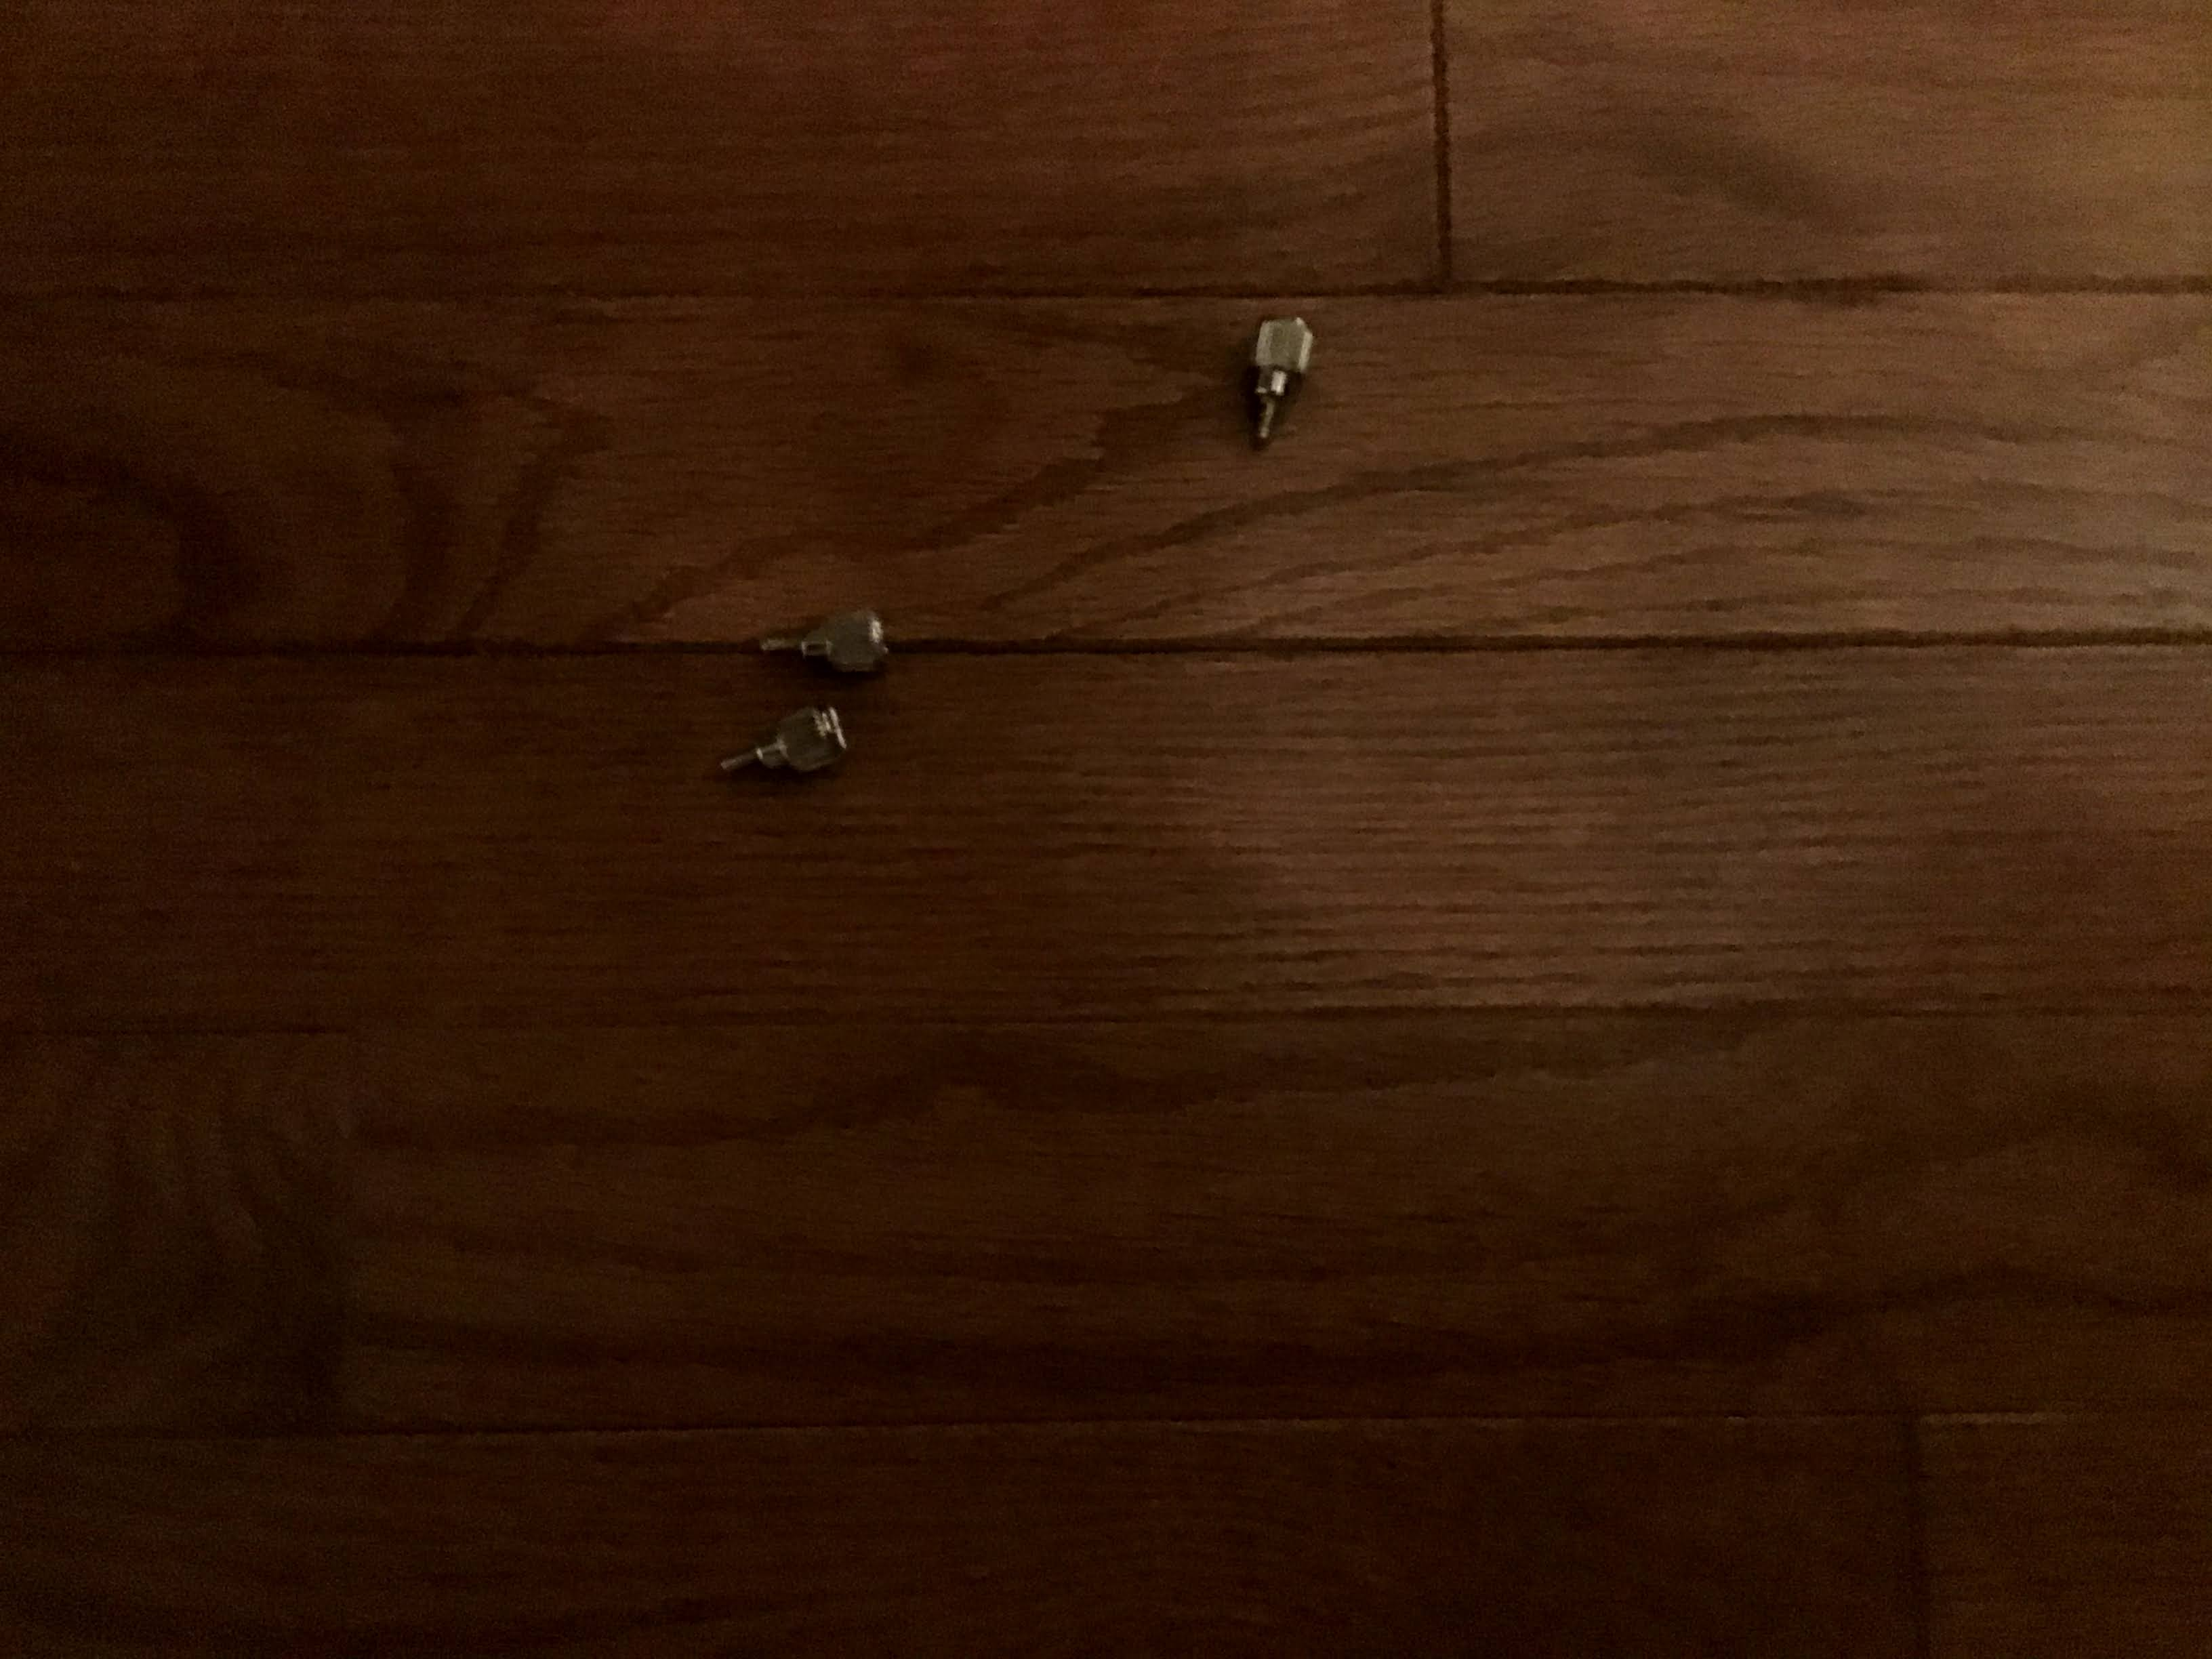Space-debris-small: (1216, 305, 1341, 462), (714, 596, 916, 680), (693, 697, 862, 796)
